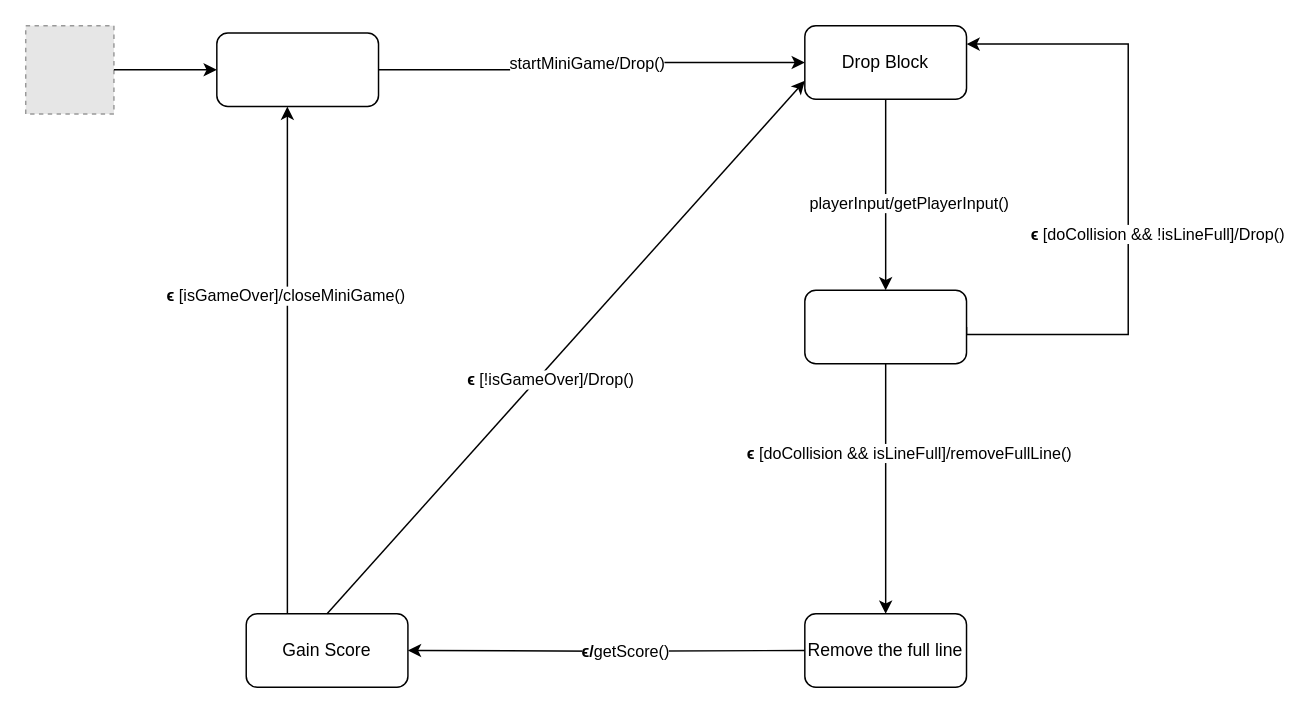
This 1310x713 diagram has some shape labels left out. Grey dashed boxes stand in for pictures. The centre of each missing label's shape, as x and y in pixels:
"Control the Block" goes at pixel 885 326.
"Waiting" goes at pixel 297 69.
